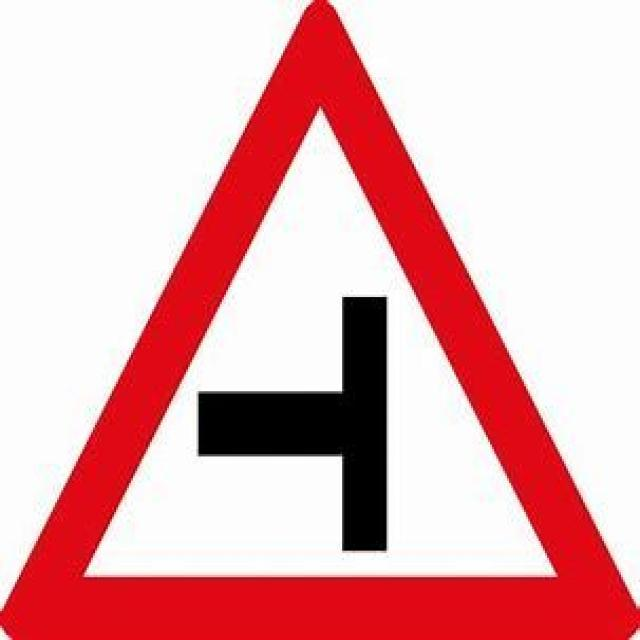side road left: (13, 17, 623, 624)
